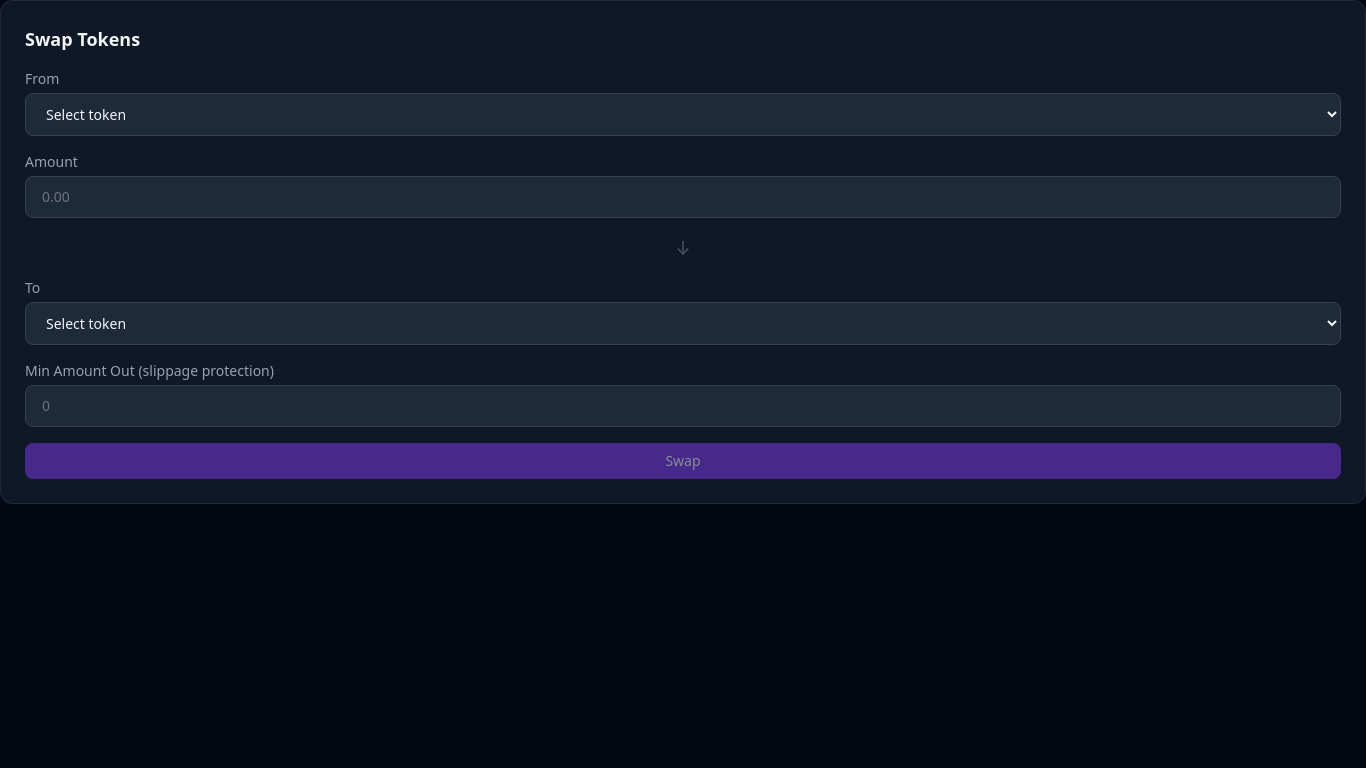
Test: SwapWidget › shows error message when swap fails
Select "USDC — Balance: 100" in the dropdown below "From": (683, 114) x1=25 y1=93 x2=1341 y2=136
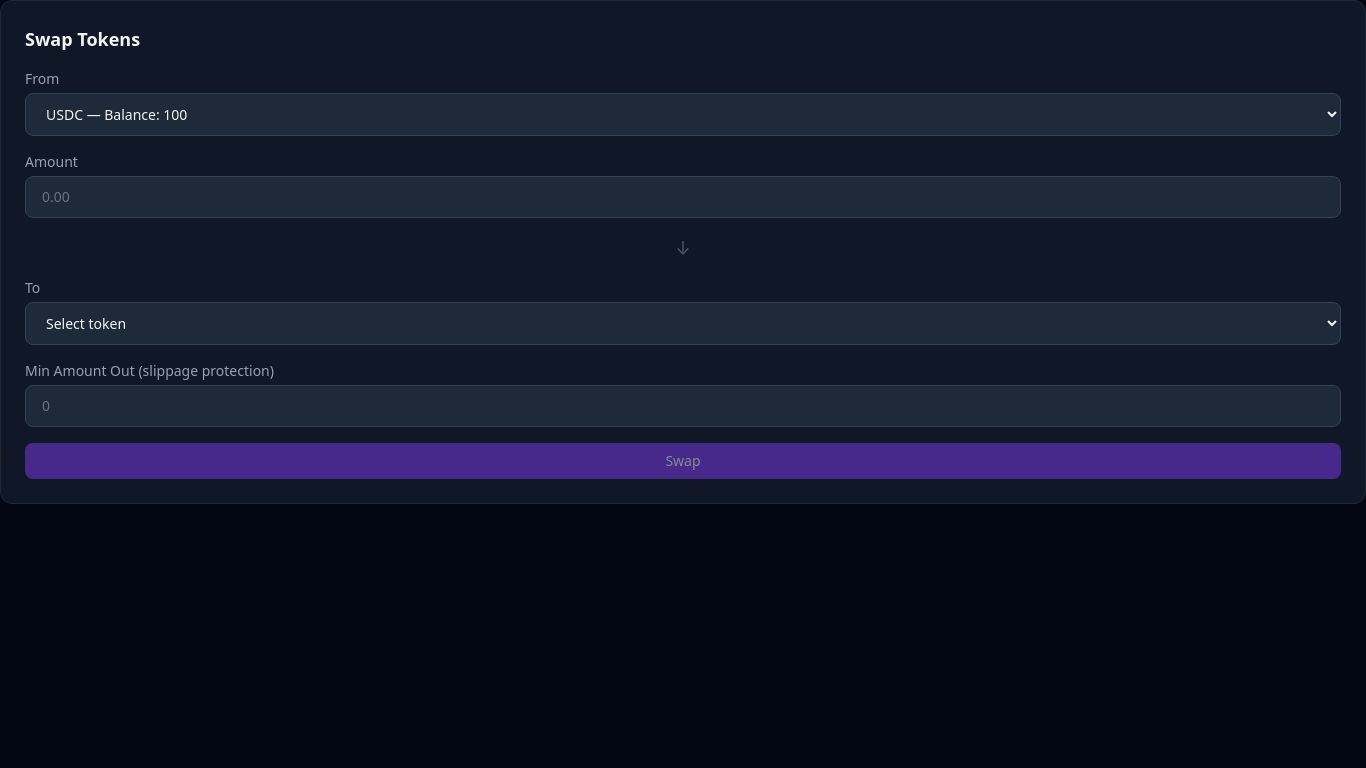
Select "EURC" in the 2nd dropdown: (683, 324) x1=25 y1=302 x2=1341 y2=345
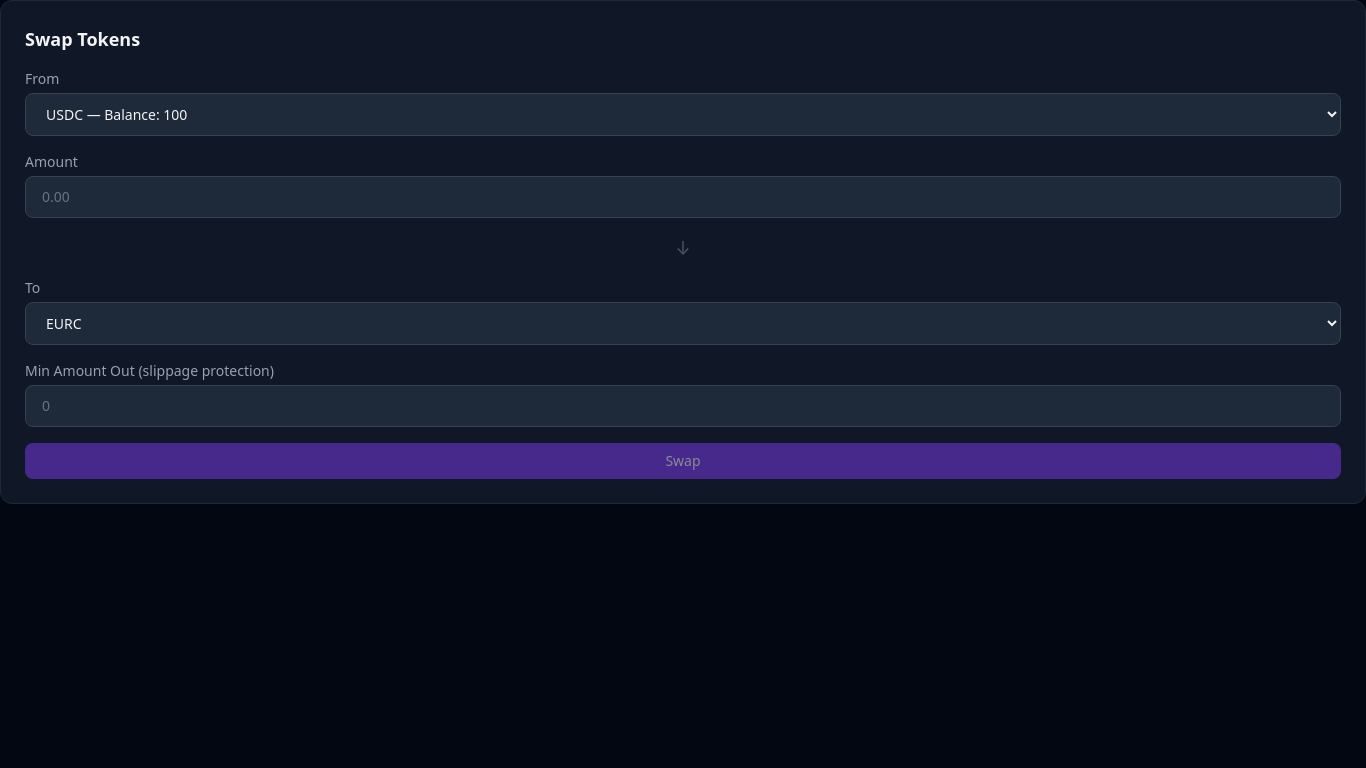
In the number field with placeholder "0.00": (683, 197) x1=25 y1=176 x2=1341 y2=218, type "50"
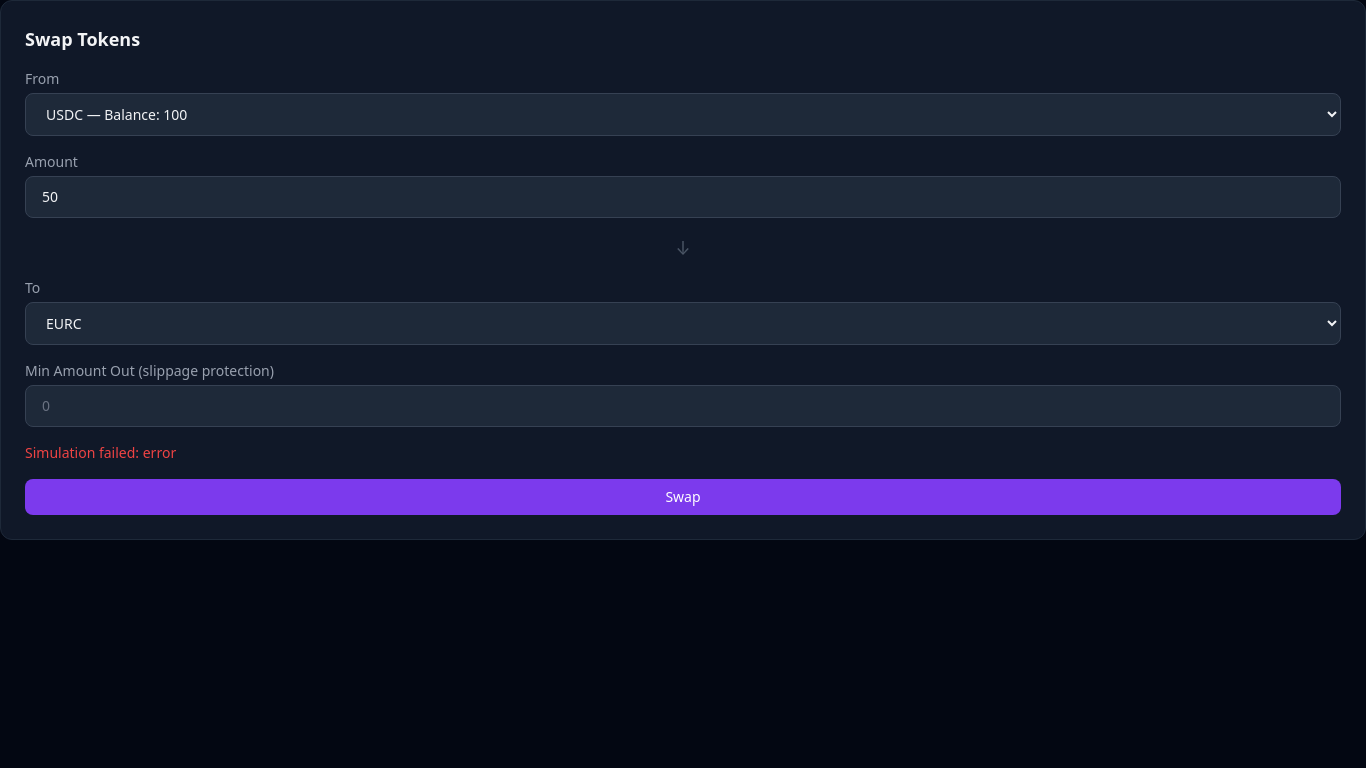
Now the text "Simulation failed: error" is shown, box x1=25 y1=443 x2=176 y2=462
